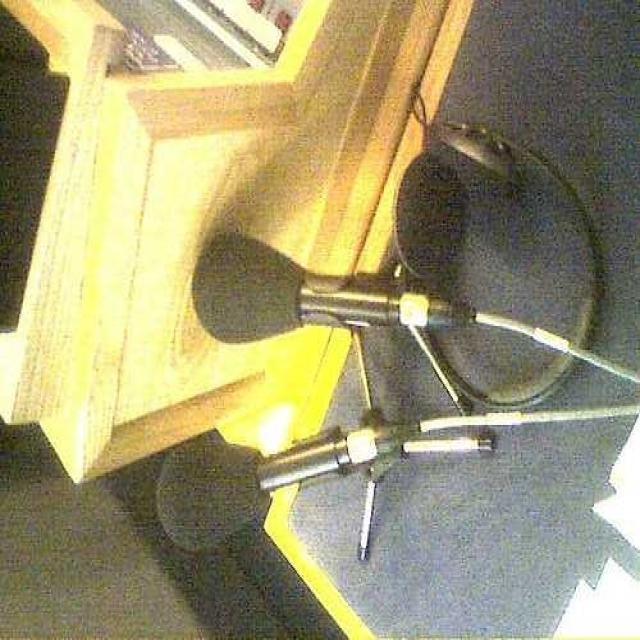microphone: (184, 236, 453, 349), (158, 436, 394, 550)
